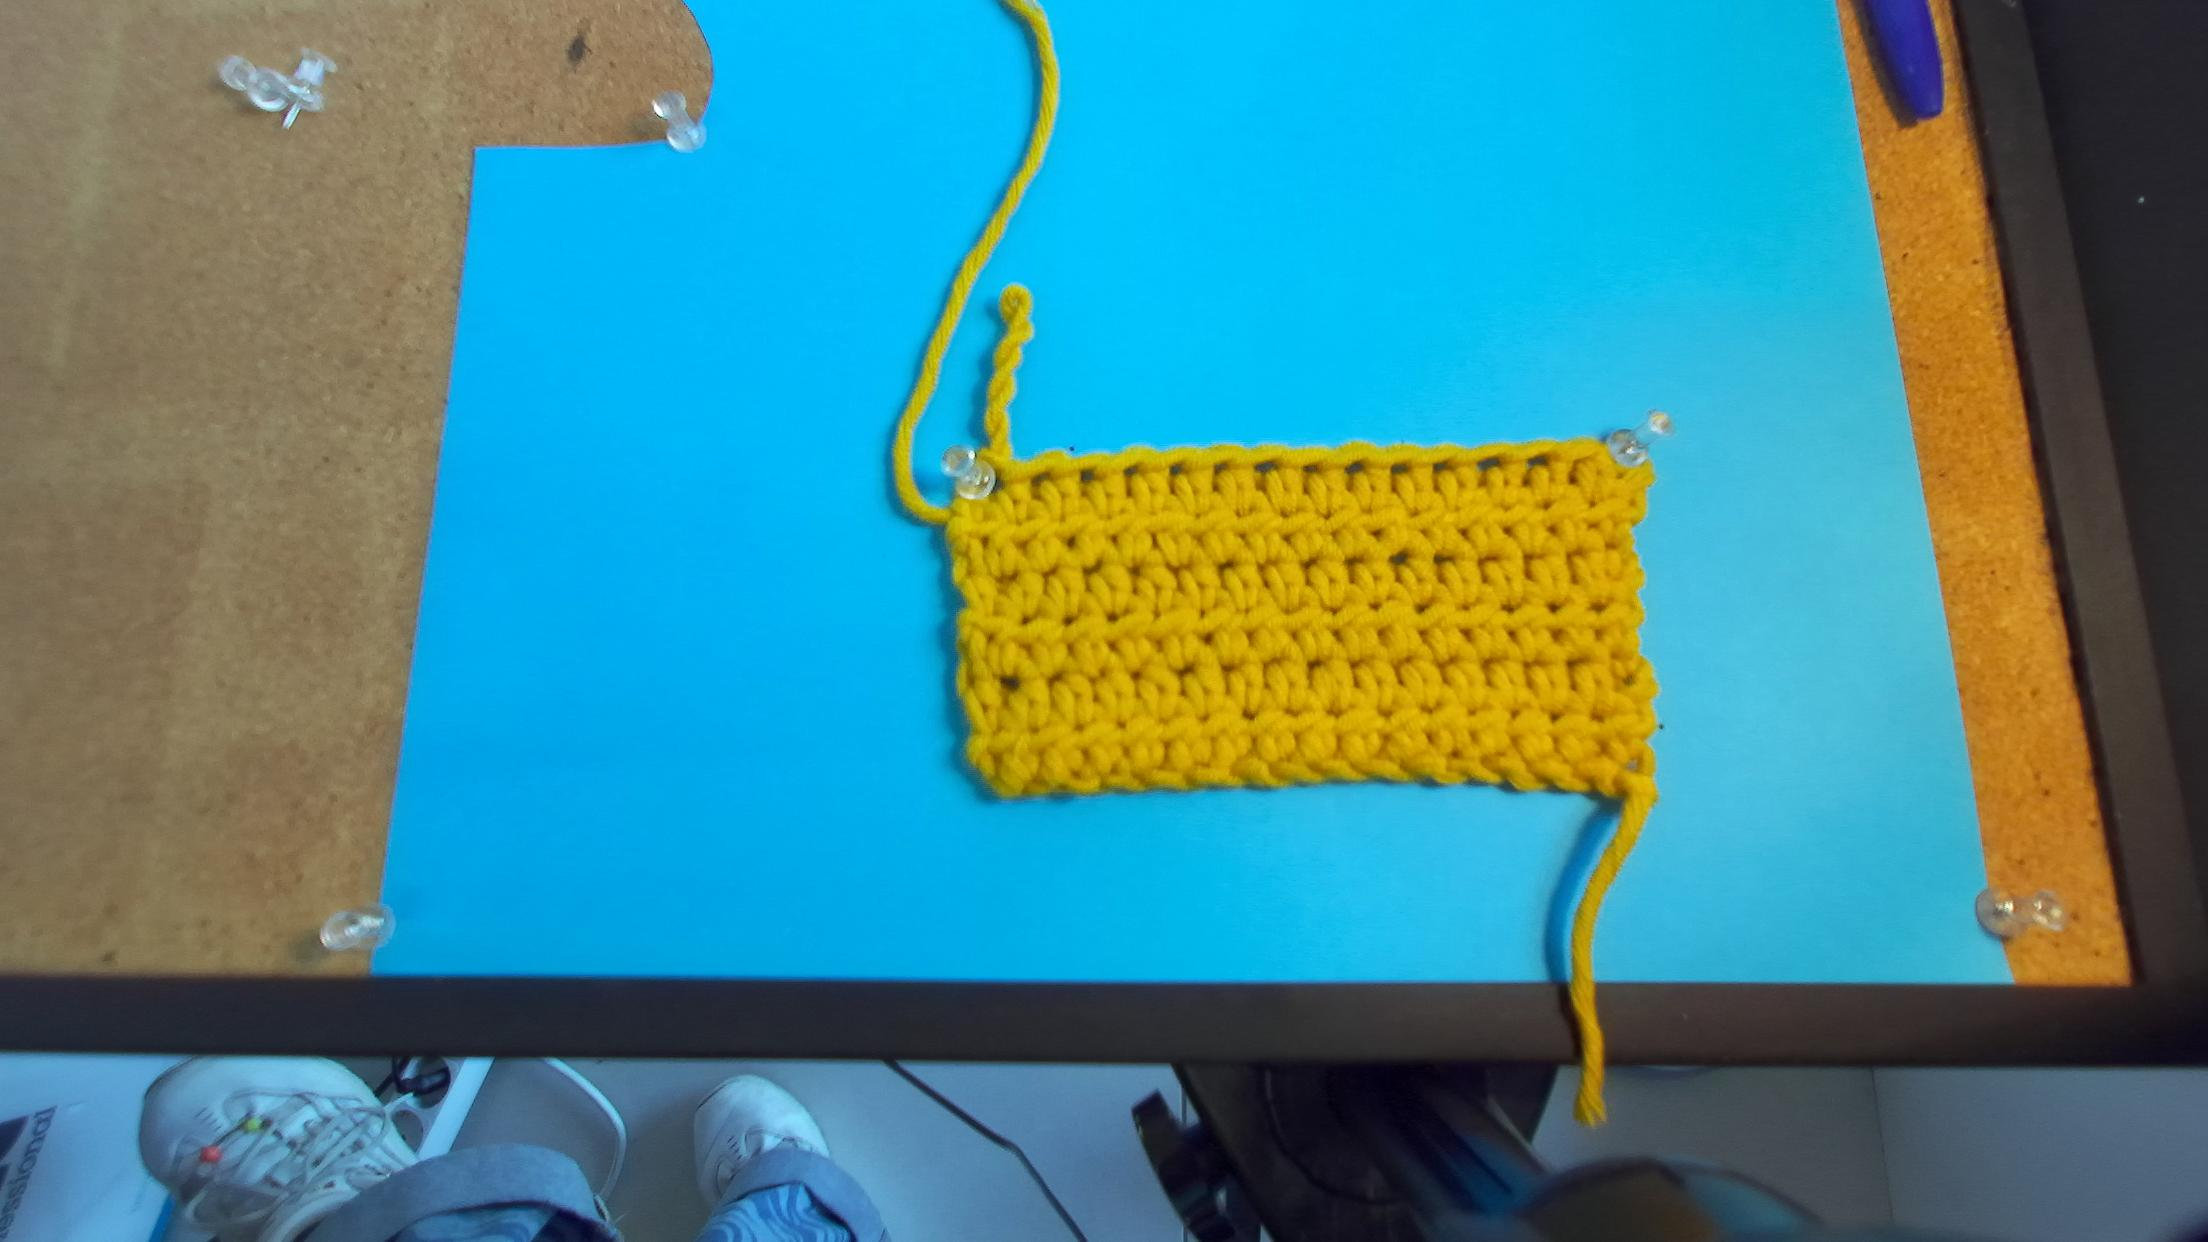hole: (1250, 458, 1276, 479), (1027, 468, 1052, 488), (1570, 451, 1597, 469), (1525, 452, 1549, 472), (1476, 454, 1502, 471), (989, 470, 1006, 495), (1431, 458, 1451, 477), (1078, 467, 1100, 484), (1344, 458, 1364, 476), (1212, 461, 1230, 478), (1121, 464, 1139, 480), (1168, 460, 1184, 478), (1299, 463, 1321, 475), (1389, 463, 1409, 474)
swatch: (936, 411, 1670, 839)
